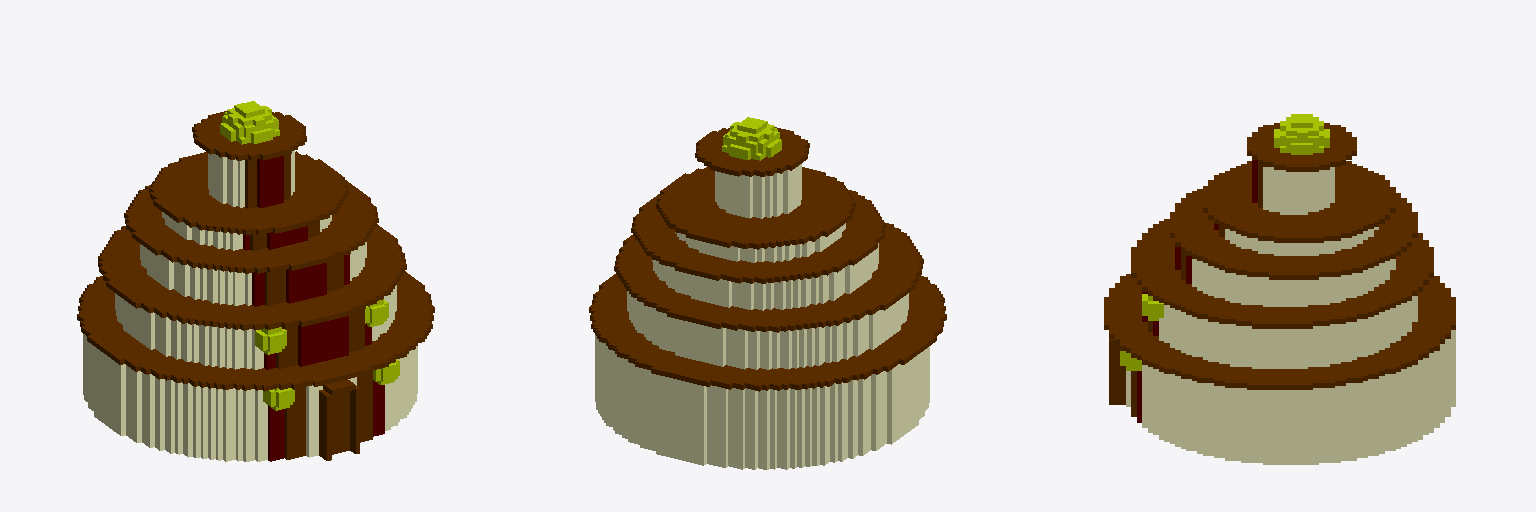
3 views of the same model, side by side, from view 1: azimuth 30°, elevation 25°; view 2: azimuth 150°, elevation 25°; view 3: azimuth 270°, elevation 25° (orthographic).
Bounding box in the file's own units: 64 × 56 × 64.
Materials: 1 (1 with a texture image).